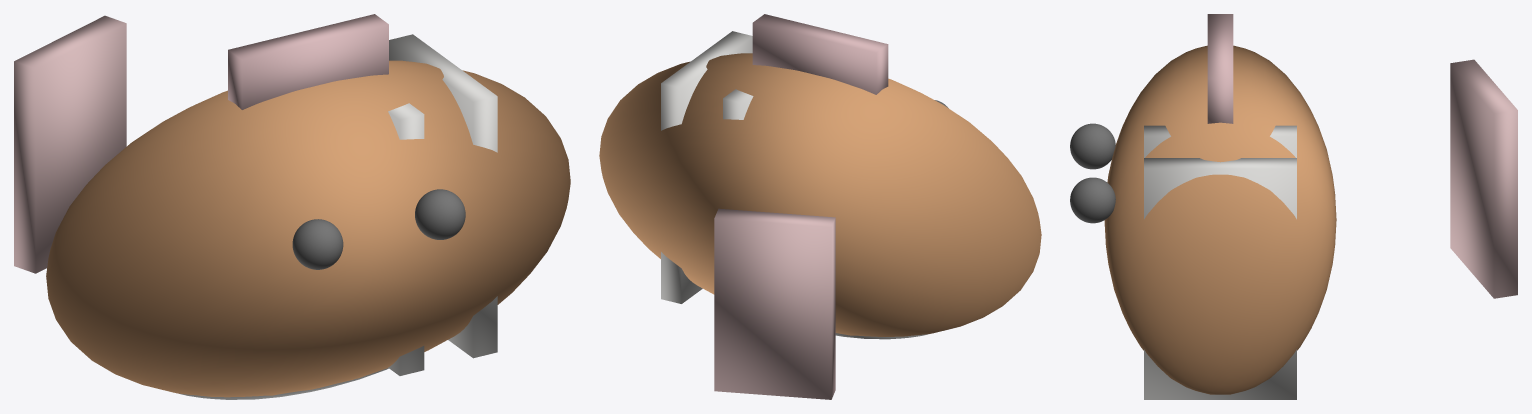
The model's file is lifecycle_fish_baby.glb.
3 views of the same model, side by side, from view 1: azimuth 30°, elevation 25°; view 2: azimuth 150°, elevation 25°; view 3: azimuth 270°, elevation 25° (orthographic). The views are drawn at different scales.
Visible parts, largest first — view 1: body, tail, dorsal, stripe1, eye-1, eye1, stripe0, belly; view 2: body, tail, dorsal, stripe1, stripe0; view 3: body, tail, stripe1, dorsal, eye1, eye-1, stripe0.
Part boxes in pixels (left/top/right/bottom): body: left=46, top=60, right=570, bottom=397; tail: left=14, top=15, right=126, bottom=273; dorsal: left=228, top=14, right=388, bottom=109; stripe1: left=389, top=34, right=497, bottom=358; eye-1: left=292, top=219, right=343, bottom=269; eye1: left=415, top=189, right=465, bottom=239; stripe0: left=388, top=103, right=424, bottom=375; belly: left=179, top=368, right=388, bottom=399; body: left=599, top=53, right=1041, bottom=336; tail: left=714, top=208, right=835, bottom=399; dorsal: left=752, top=14, right=888, bottom=94; stripe1: left=661, top=31, right=752, bottom=303; stripe0: left=723, top=89, right=753, bottom=119; body: left=1104, top=45, right=1336, bottom=394; tail: left=1450, top=59, right=1517, bottom=298; stripe1: left=1144, top=158, right=1296, bottom=399; dorsal: left=1207, top=14, right=1233, bottom=123; eye1: left=1070, top=177, right=1115, bottom=223; eye-1: left=1070, top=123, right=1115, bottom=169; stripe0: left=1144, top=125, right=1296, bottom=157.
Size of the model in its own units: 0.416 by 0.27 by 0.3512.
